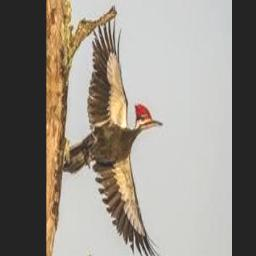Woodpecker: (61, 17, 165, 256)
